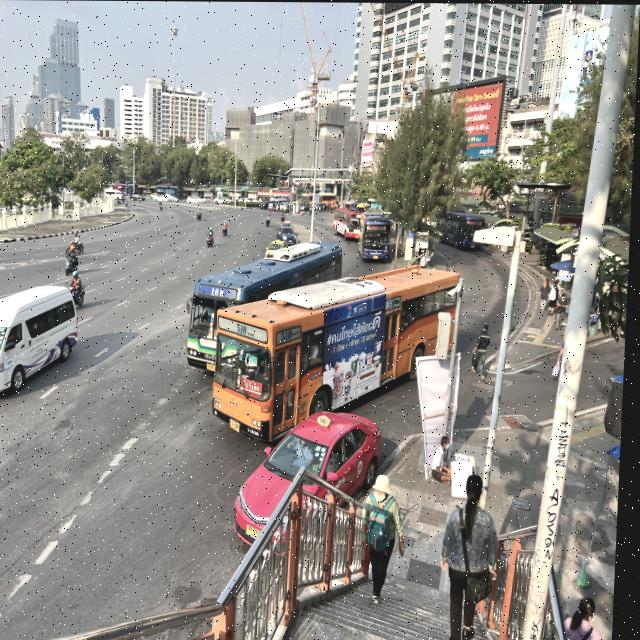BMTA-bus: (213, 260, 463, 444), (185, 239, 348, 374), (335, 203, 363, 241)
Bus-Line-Number: (237, 321, 260, 338), (283, 324, 303, 343), (213, 286, 228, 297), (480, 220, 485, 225), (385, 225, 389, 231)
Destination-Sign-Extra-Bus: (242, 375, 267, 398)
Destination-Sign-Normal: (371, 224, 381, 231), (470, 219, 479, 225)
TSB-Bus: (440, 208, 492, 251), (362, 202, 396, 263)
